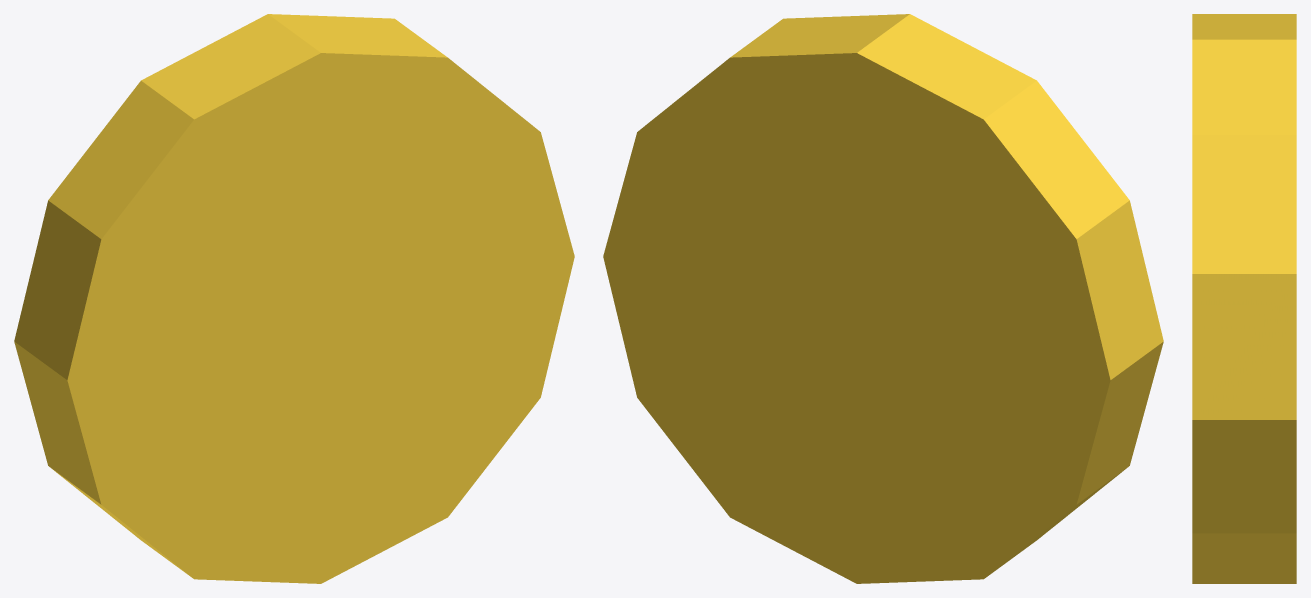
Rendered from lamp_n13_halo_lev5.glb.
3 views of the same model, side by side, from view 1: azimuth 30°, elevation 25°; view 2: azimuth 150°, elevation 25°; view 3: azimuth 270°, elevation 25° (orthographic). The views are drawn at different scales.
Visible parts, largest first — view 1: lamp_n13_halo_lev5; view 2: lamp_n13_halo_lev5; view 3: lamp_n13_halo_lev5.
Part boxes in pixels (left/top/right/bottom): lamp_n13_halo_lev5: left=14, top=14, right=574, bottom=583; lamp_n13_halo_lev5: left=603, top=14, right=1163, bottom=583; lamp_n13_halo_lev5: left=1192, top=14, right=1296, bottom=583.
Bounding box in the file's own units: 0.44 × 0.44 × 0.08.
